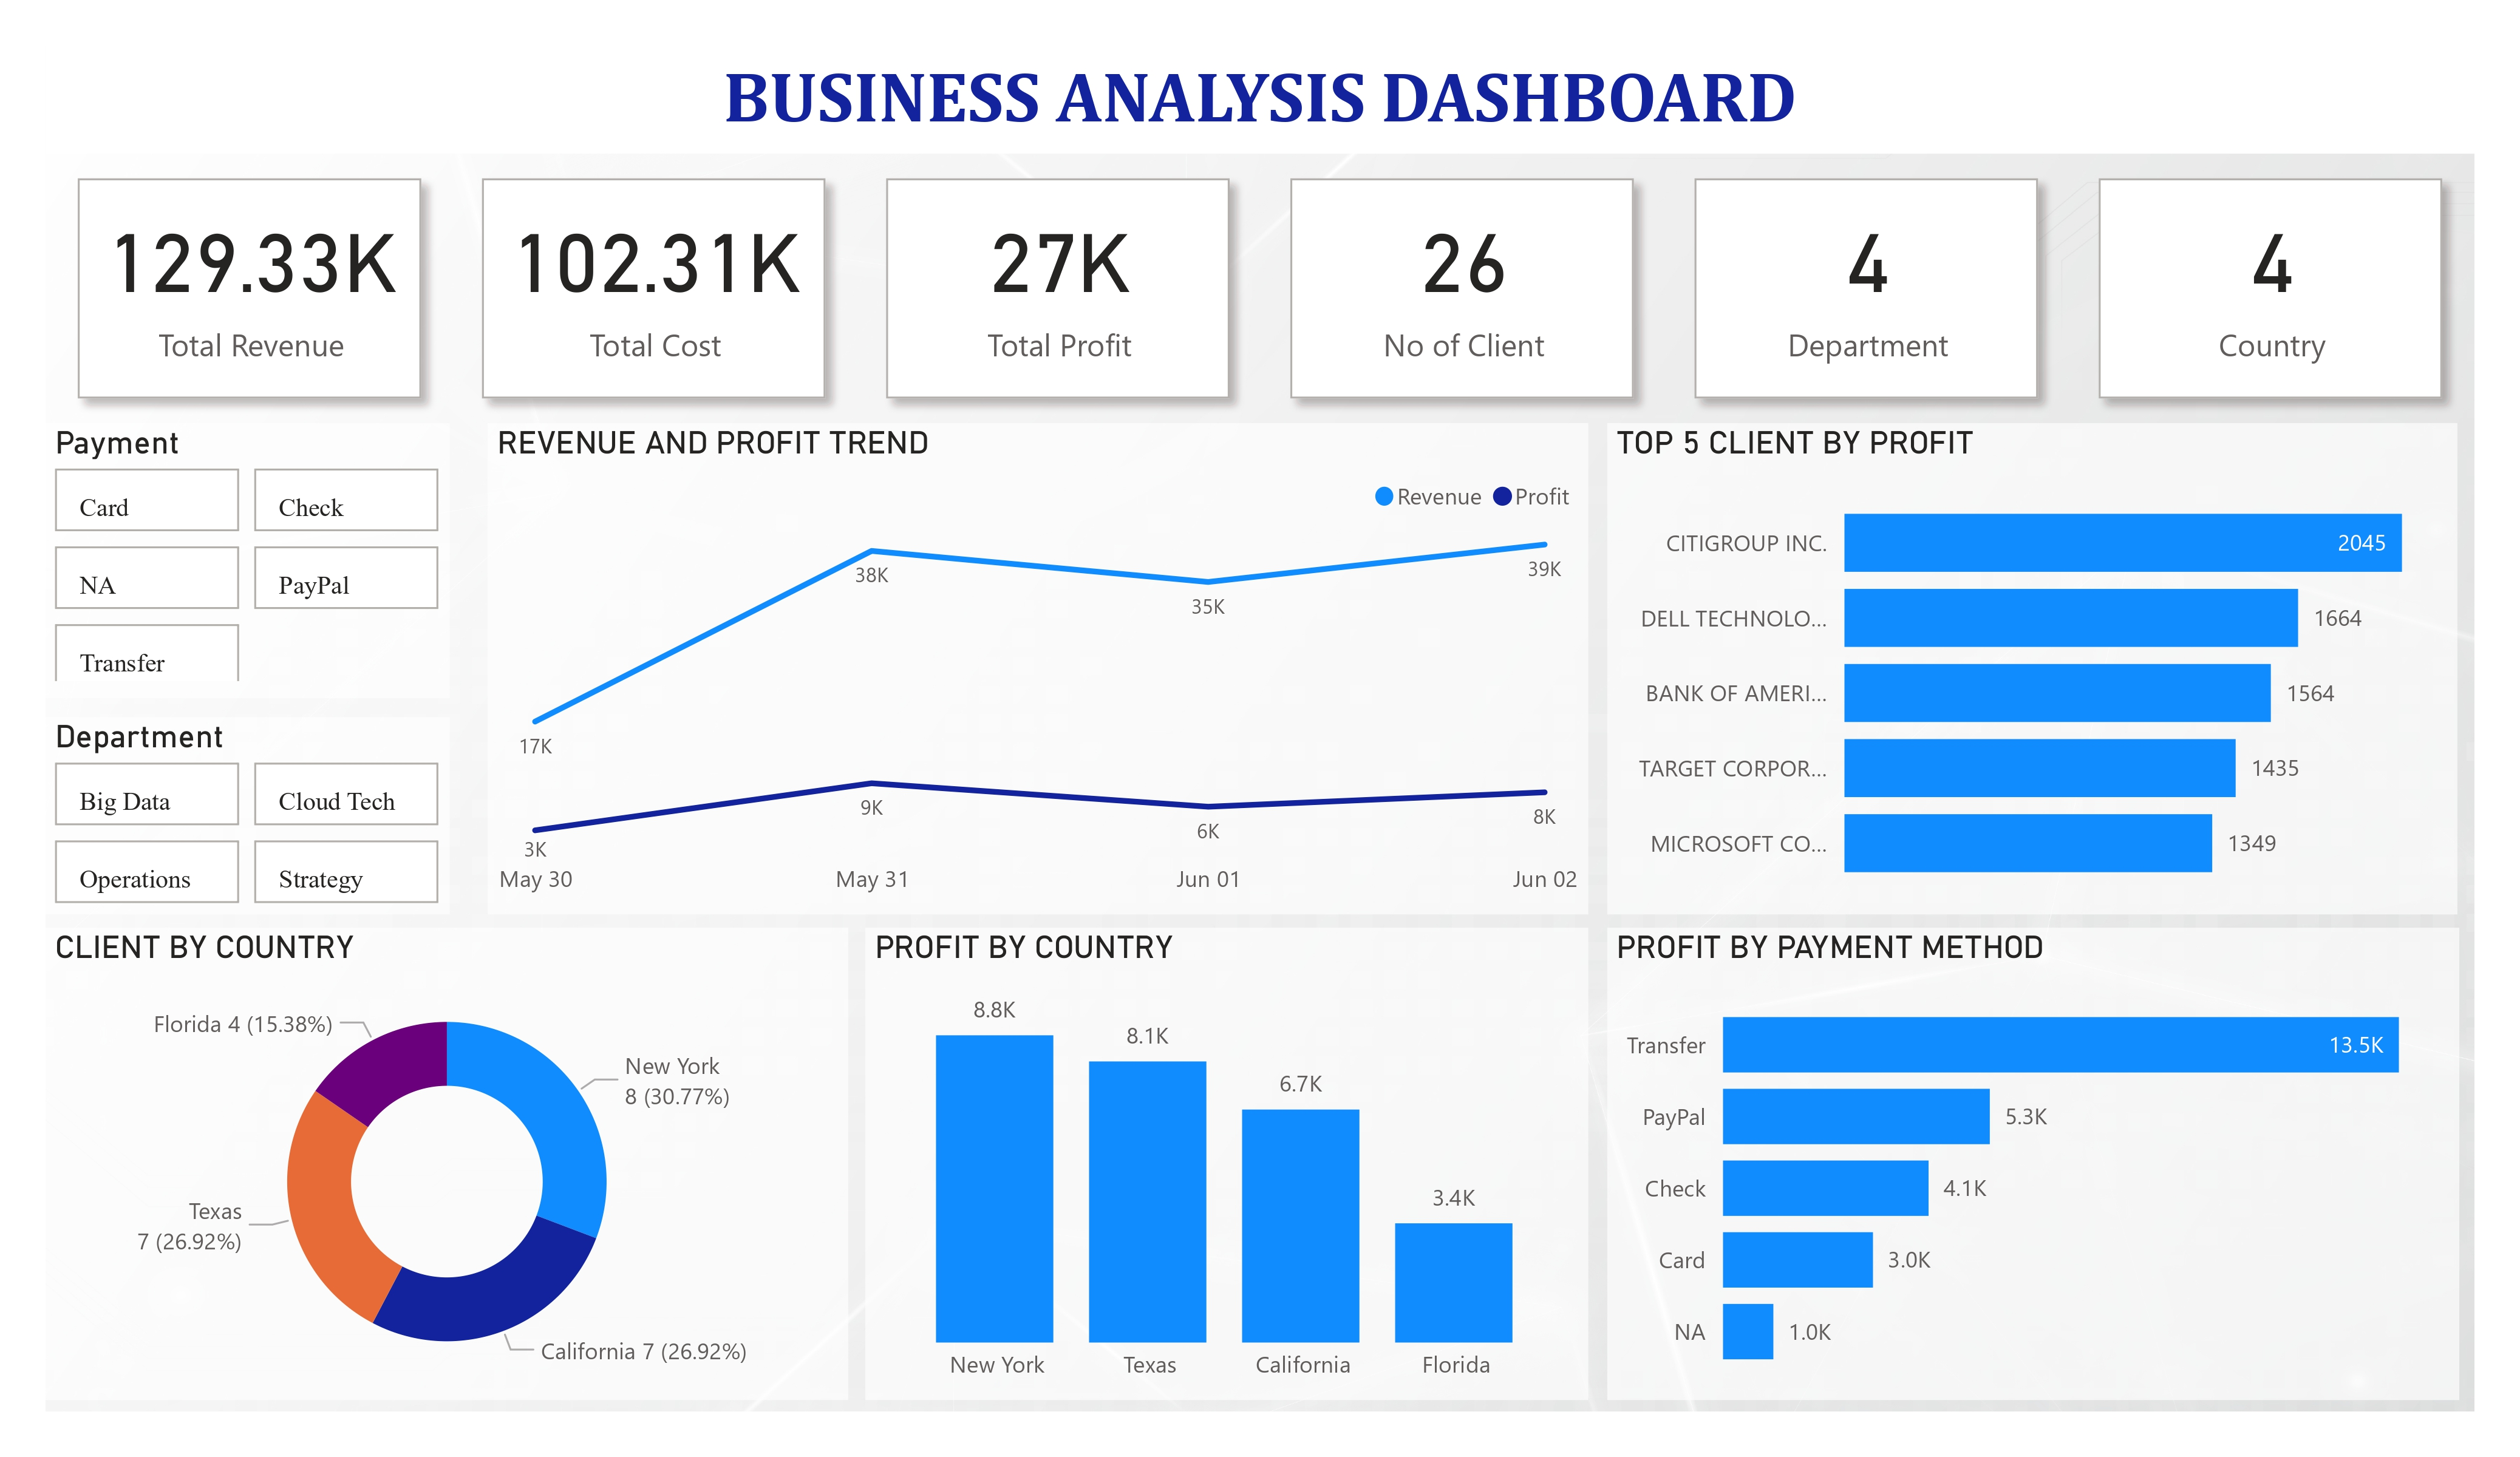

What the dashboard file says about the page in this screenshot:
{"tool":"powerbi","page":{"name":"Page 1","canvas":[1280,720],"ordinal":0},"visuals":[{"type":"cardVisual","fields":{"Data":["Sum(Table 1 (Raw Data).Revenue)","Sum(Table 1 (Raw Data).Cost)","Sum(Table 1 (Raw Data).Profit)","Table 1 (Raw Data).No of Client","Count(Table 1 (Raw Data).Department)","Count(Table 1 (Raw Data).Country)"]},"box":[0,53.3,1280,150],"z":0},{"type":"textbox","box":[0,0,1280,56.7],"z":1000},{"type":"lineChart","title":"REVENUE AND PROFIT TREND","fields":{"Y":["Sum(Table 1 (Raw Data).Revenue)","Sum(Table 1 (Raw Data).Profit)"],"Category":["Table 1 (Raw Data).Date.Variation.Date Hierarchy.Year","Table 1 (Raw Data).Date.Variation.Date Hierarchy.Month","Table 1 (Raw Data).Date.Variation.Date Hierarchy.Day"]},"box":[232.9,199.3,580,258.6],"z":2000},{"type":"barChart","title":"TOP 5 CLIENT BY PROFIT","fields":{"Category":["Table 1 (Raw Data).Client"],"Y":["Sum(Table 1 (Raw Data).Profit)"]},"box":[822.9,199.3,448.6,258.6],"z":3000},{"type":"barChart","title":"PROFIT BY PAYMENT METHOD","fields":{"Category":["Table 1 (Raw Data).Payment"],"Y":["Sum(Table 1 (Raw Data).Profit)"]},"box":[823.3,465.2,448.3,248.3],"z":4000},{"type":"advancedSlicerVisual","fields":{"Values":["Table 1 (Raw Data).Payment"]},"box":[0,199.3,212.9,144.3],"z":5000},{"type":"advancedSlicerVisual","fields":{"Values":["Table 1 (Raw Data).Department"]},"box":[0,353.6,212.9,104.3],"z":6000},{"type":"clusteredColumnChart","title":"PROFIT BY COUNTRY","fields":{"Category":["Table 1 (Raw Data).Country"],"Y":["Sum(Table 1 (Raw Data).Profit)"]},"box":[431.7,465.2,381.7,248.3],"z":7000},{"type":"donutChart","title":"CLIENT BY COUNTRY","fields":{"Category":["Table 1 (Raw Data).Country"],"Y":["Count(Table 1 (Raw Data).Client)"]},"box":[0,465.2,423.3,248.3],"z":8000}]}

Visuals, with their boxes in screenshot pixels (x1, y1, x2, y2):
cardVisual - Sum(Table 1 (Raw Data).Revenue) x Sum(Table 1 (Raw Data).Cost): l=46, t=147, r=2474, b=431
textbox: l=46, t=46, r=2474, b=153
"REVENUE AND PROFIT TREND" lineChart: l=488, t=424, r=1588, b=914
"TOP 5 CLIENT BY PROFIT" barChart: l=1607, t=424, r=2458, b=914
"PROFIT BY PAYMENT METHOD" barChart: l=1608, t=928, r=2459, b=1399
advancedSlicerVisual - Table 1 (Raw Data).Payment: l=46, t=424, r=449, b=698
advancedSlicerVisual - Table 1 (Raw Data).Department: l=46, t=716, r=449, b=914
"PROFIT BY COUNTRY" clusteredColumnChart: l=865, t=928, r=1589, b=1399
"CLIENT BY COUNTRY" donutChart: l=46, t=928, r=849, b=1399
